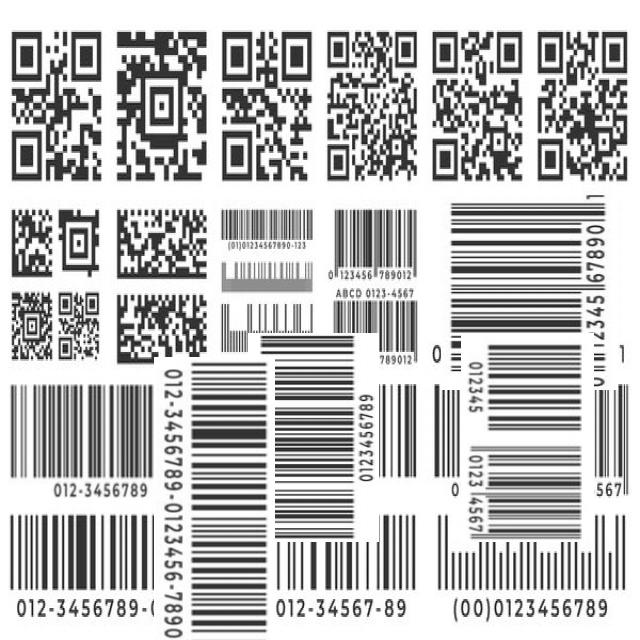Barkod: (79, 431, 349, 640), (434, 194, 626, 384), (442, 352, 613, 523), (228, 352, 400, 522), (6, 372, 203, 497)
